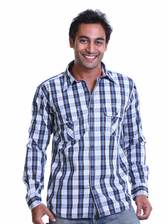clothoes: (17, 61, 152, 212)
